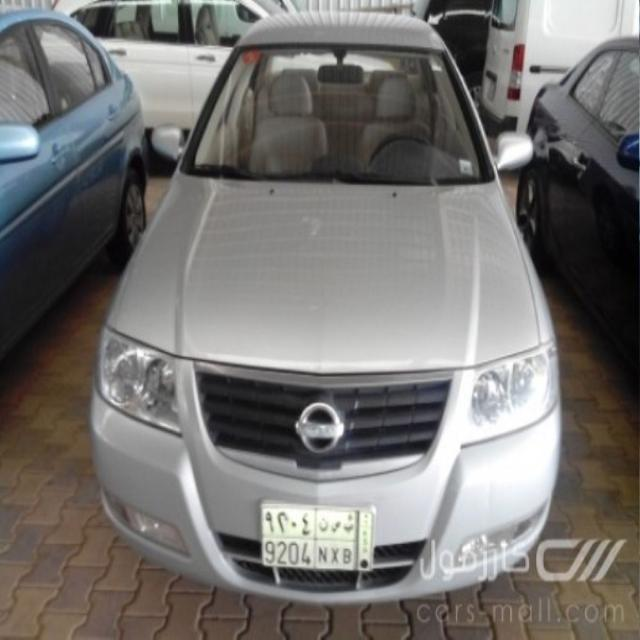license_plate: (257, 498, 379, 574)
